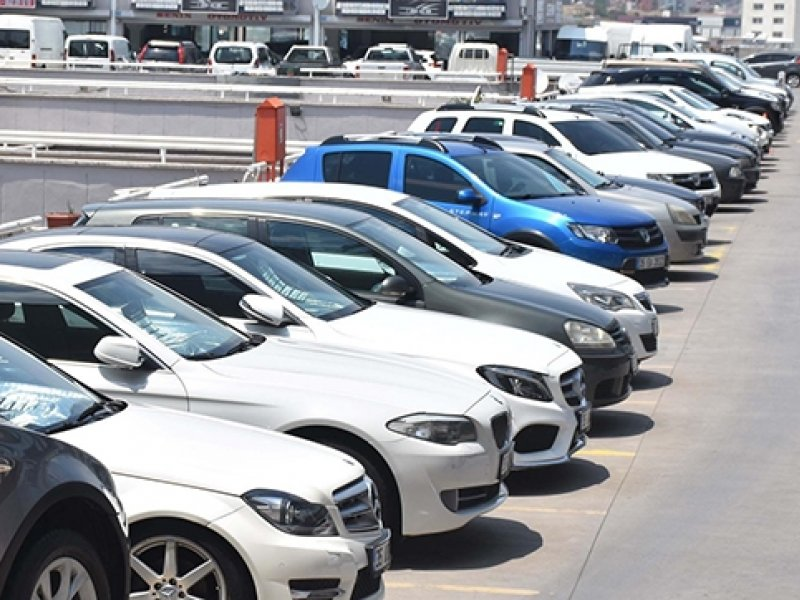Car: (0, 251, 512, 541), (0, 227, 590, 469), (77, 199, 634, 409), (0, 335, 389, 600), (107, 182, 660, 363), (283, 134, 667, 283), (406, 105, 720, 218), (469, 134, 708, 263), (0, 421, 130, 600), (561, 109, 746, 204), (553, 107, 761, 191), (581, 68, 785, 136), (557, 91, 760, 149), (578, 87, 770, 148), (585, 100, 761, 162), (597, 84, 774, 140), (651, 52, 795, 108), (604, 175, 706, 215), (0, 15, 67, 69), (712, 67, 789, 110), (341, 49, 443, 78), (431, 42, 499, 83), (601, 58, 719, 81), (354, 44, 426, 80), (63, 35, 136, 70), (207, 41, 276, 76), (709, 68, 779, 102), (135, 39, 206, 72), (742, 52, 800, 88), (276, 46, 332, 76)
